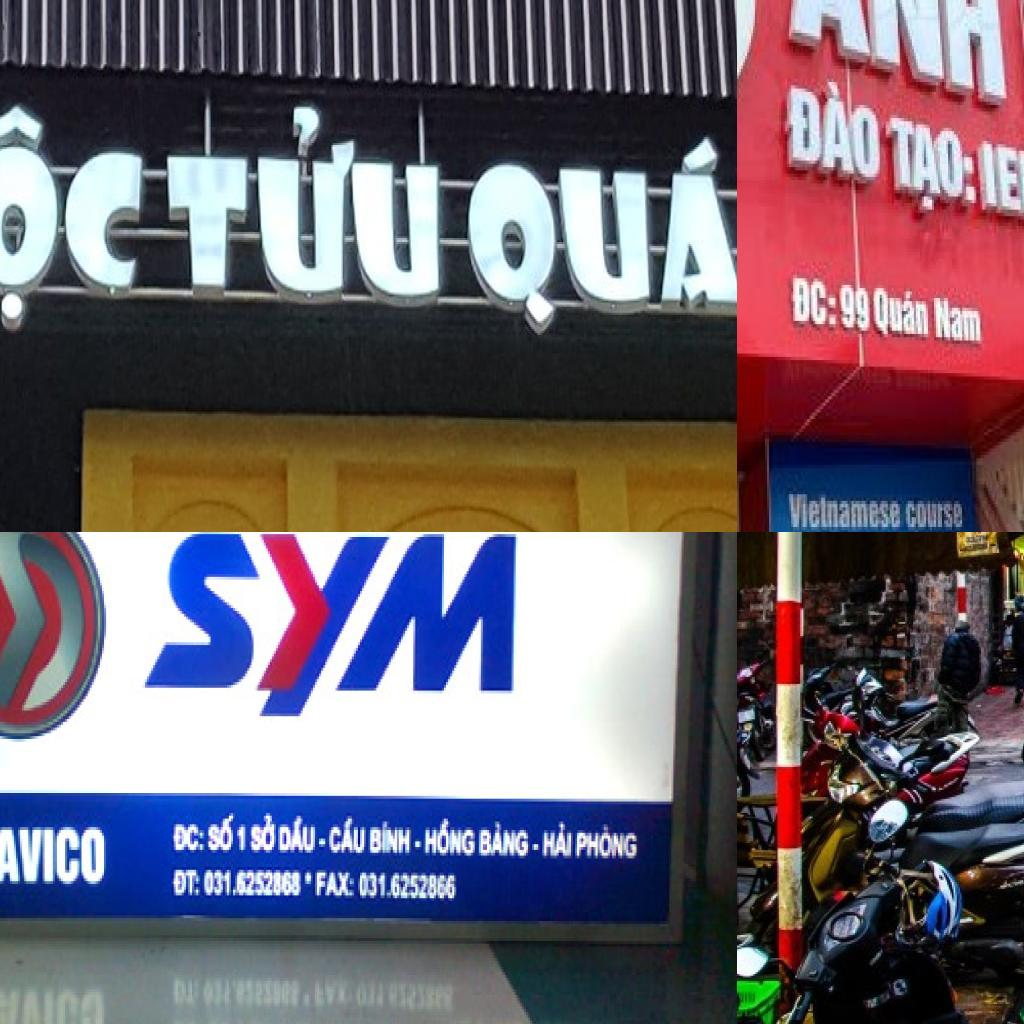text: (138, 532, 538, 736), (158, 102, 448, 316), (0, 107, 146, 329), (787, 0, 1010, 104), (785, 66, 884, 190), (888, 108, 982, 223), (0, 818, 112, 892), (787, 487, 903, 532), (980, 137, 1024, 245), (204, 864, 303, 904), (872, 282, 932, 344), (932, 295, 984, 350), (577, 822, 643, 864), (791, 275, 840, 331), (479, 816, 532, 864), (426, 818, 478, 858), (840, 278, 874, 338), (327, 813, 368, 861), (905, 500, 966, 532), (366, 822, 413, 862), (278, 813, 319, 858), (313, 867, 358, 904), (540, 819, 575, 864), (206, 810, 240, 856), (250, 807, 278, 856), (172, 816, 206, 856), (170, 864, 204, 904), (237, 822, 250, 858), (532, 838, 544, 856), (305, 867, 315, 887), (319, 833, 329, 850), (414, 838, 424, 852)
